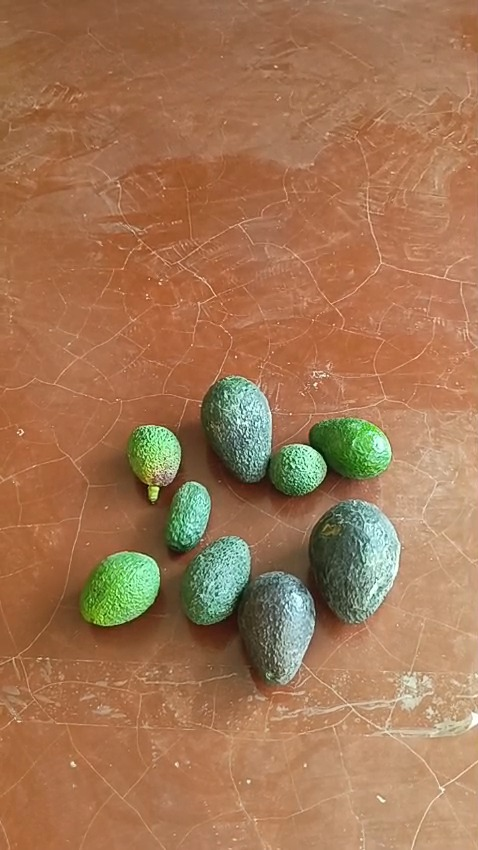Primera: (308, 498, 400, 623), (237, 571, 316, 683), (200, 375, 273, 483)
Segunda: (180, 535, 251, 624), (79, 550, 161, 627), (309, 417, 391, 480)
Tercera: (127, 423, 181, 485), (166, 480, 211, 552), (268, 443, 329, 496)
